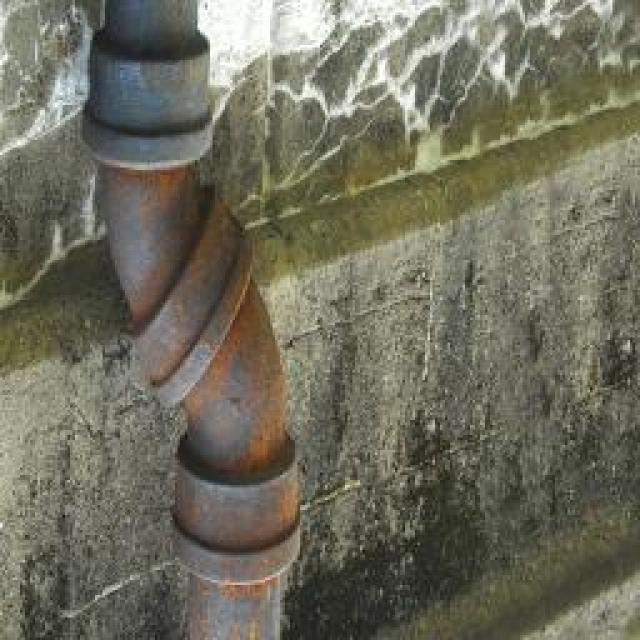rust: (94, 167, 308, 638)
